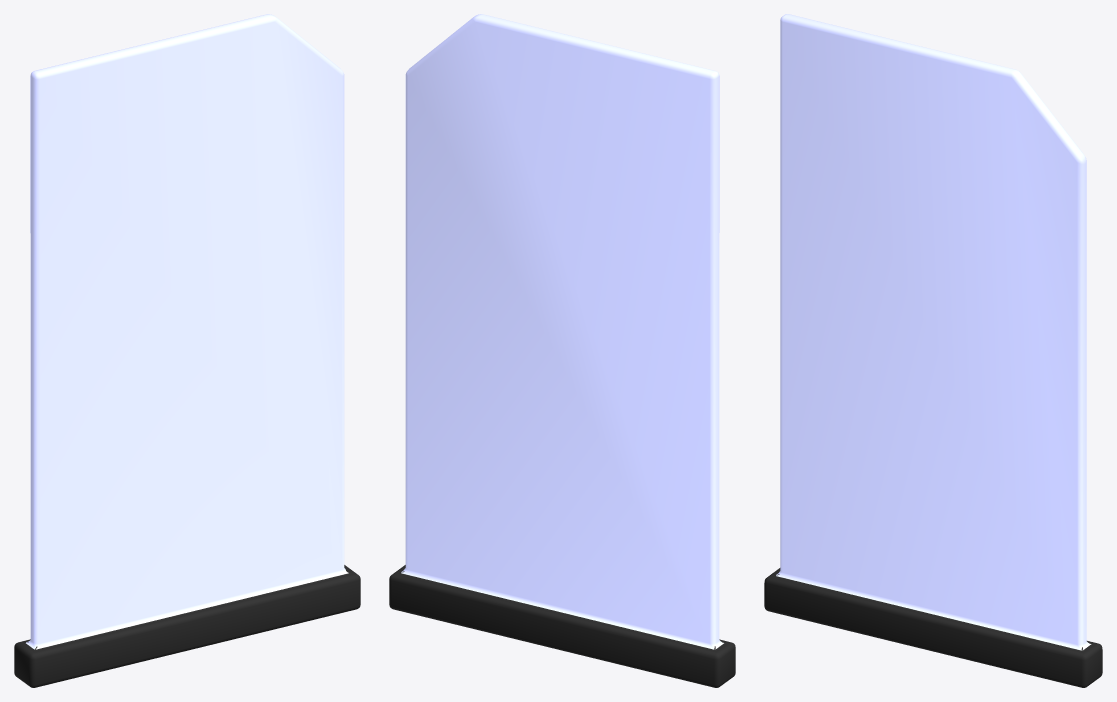
The model's file is Stand.gltf.
3 views of the same model, side by side, from view 1: azimuth 30°, elevation 25°; view 2: azimuth 150°, elevation 25°; view 3: azimuth 330°, elevation 25° (orthographic). The views are drawn at different scales.
Visible parts, largest first — view 1: Stand; view 2: Stand; view 3: Stand.
Boxes of the visible parts, bbox=[...] form: Stand: bbox=[14, 14, 360, 687]; Stand: bbox=[389, 14, 735, 687]; Stand: bbox=[764, 14, 1102, 687].
Size of the model in its own units: 3.03 by 5.32 by 0.3032.
